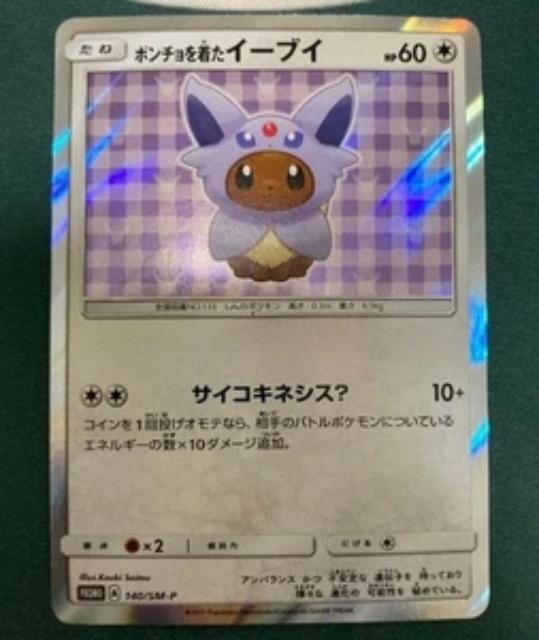Card: (46, 12, 495, 630)
Name: (131, 34, 329, 67)
